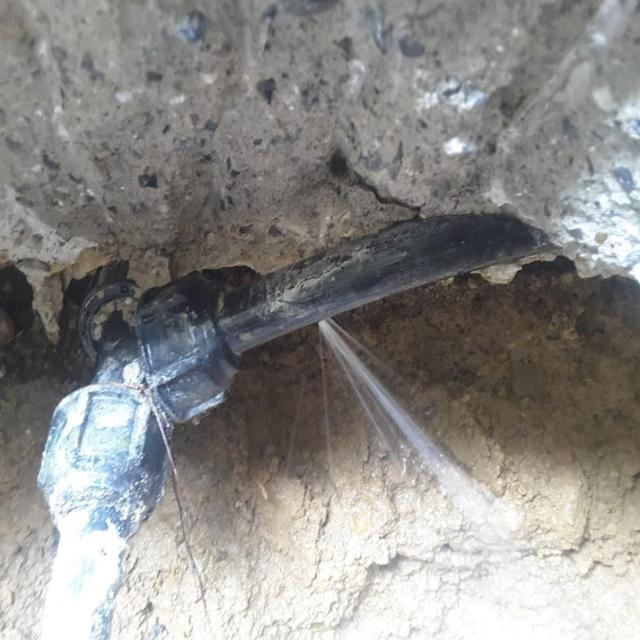leak: (319, 318, 518, 549)
